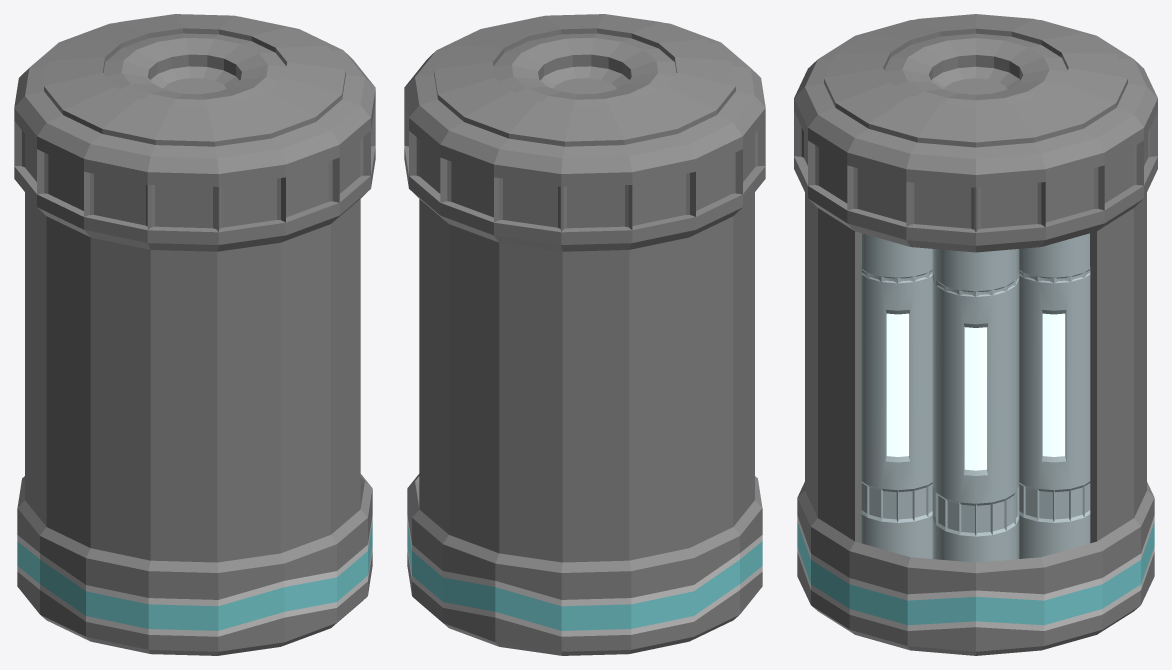
Rendered from Canister Crate.fbx.
The picture shows the model from 3 angles, left to right: view 1: azimuth 30°, elevation 25°; view 2: azimuth 150°, elevation 25°; view 3: azimuth 270°, elevation 25°; orthographic projection.
Visible parts, largest first — view 1: 柱体, 柱体.005, 柱体.003, 柱体.004; view 2: 柱体, 柱体.005, 柱体.003, 柱体.004; view 3: 柱体, 柱体.002, 柱体.001, 柱体.005, 柱体.007, 柱体.006, 柱体.003, 柱体.004, 柱体.008.
Boxes of the visible parts, left/top/right/bottom form: 柱体: left=14, top=14, right=375, bottom=655; 柱体.005: left=17, top=521, right=372, bottom=630; 柱体.003: left=17, top=515, right=372, bottom=606; 柱体.004: left=17, top=546, right=372, bottom=636; 柱体: left=404, top=14, right=765, bottom=655; 柱体.005: left=407, top=521, right=762, bottom=630; 柱体.003: left=407, top=515, right=762, bottom=606; 柱体.004: left=407, top=546, right=762, bottom=636; 柱体: left=794, top=14, right=1157, bottom=655; 柱体.002: left=861, top=233, right=1090, bottom=558; 柱体.001: left=932, top=249, right=1019, bottom=562; 柱体.005: left=797, top=522, right=1154, bottom=625; 柱体.007: left=886, top=313, right=1065, bottom=456; 柱体.006: left=964, top=327, right=987, bottom=470; 柱体.003: left=797, top=516, right=1154, bottom=600; 柱体.004: left=797, top=546, right=1154, bottom=630; 柱体.008: left=934, top=490, right=1017, bottom=532.
Size of the model in its own units: 213 by 333 by 213.
